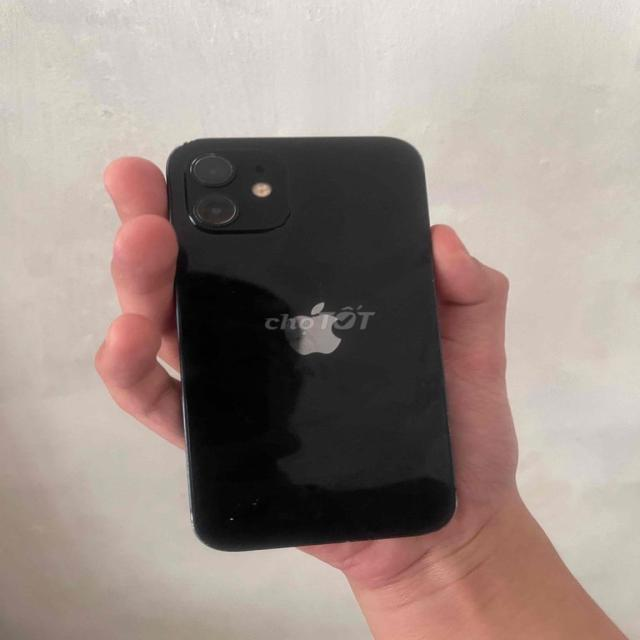gen_12_13: (160, 129, 465, 562)
